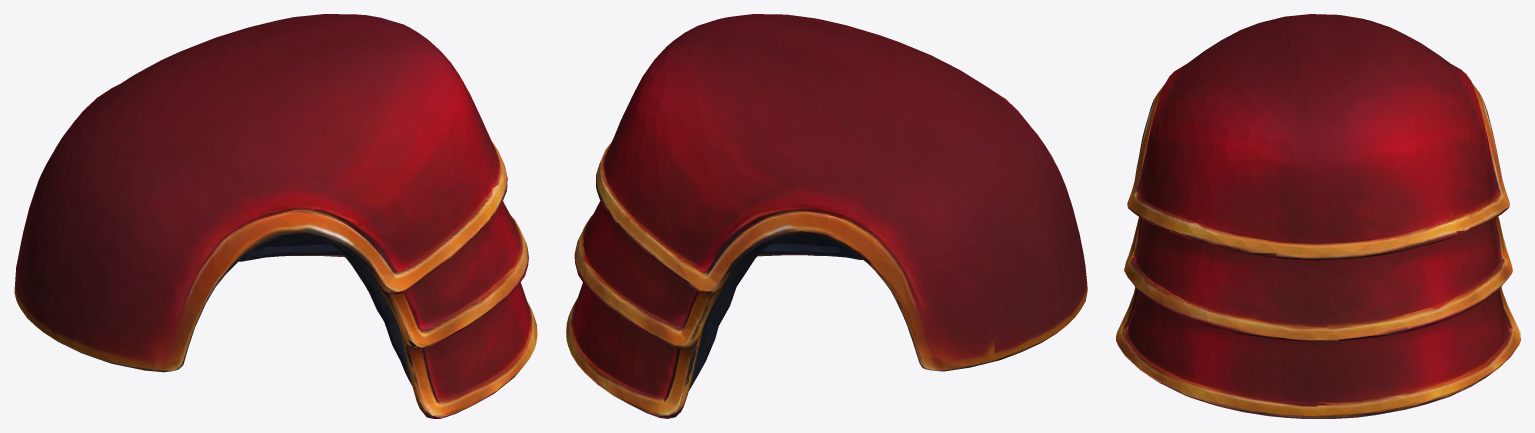
The model's file is dsa_ranger_pauldron.glb.
3 views of the same model, side by side, from view 1: azimuth 30°, elevation 25°; view 2: azimuth 150°, elevation 25°; view 3: azimuth 270°, elevation 25° (orthographic). The views are drawn at different scales.
Visible parts, largest first — view 1: tmpr1p0lv6c.ply; view 2: tmpr1p0lv6c.ply; view 3: tmpr1p0lv6c.ply.
Part boxes in pixels (<box>): tmpr1p0lv6c.ply: <box>14,14,537,418</box>; tmpr1p0lv6c.ply: <box>566,14,1087,418</box>; tmpr1p0lv6c.ply: <box>1116,14,1520,418</box>.
Bounding box in the file's own units: 2 × 1.27 × 1.63.
Materials: 1 (1 with a texture image).
